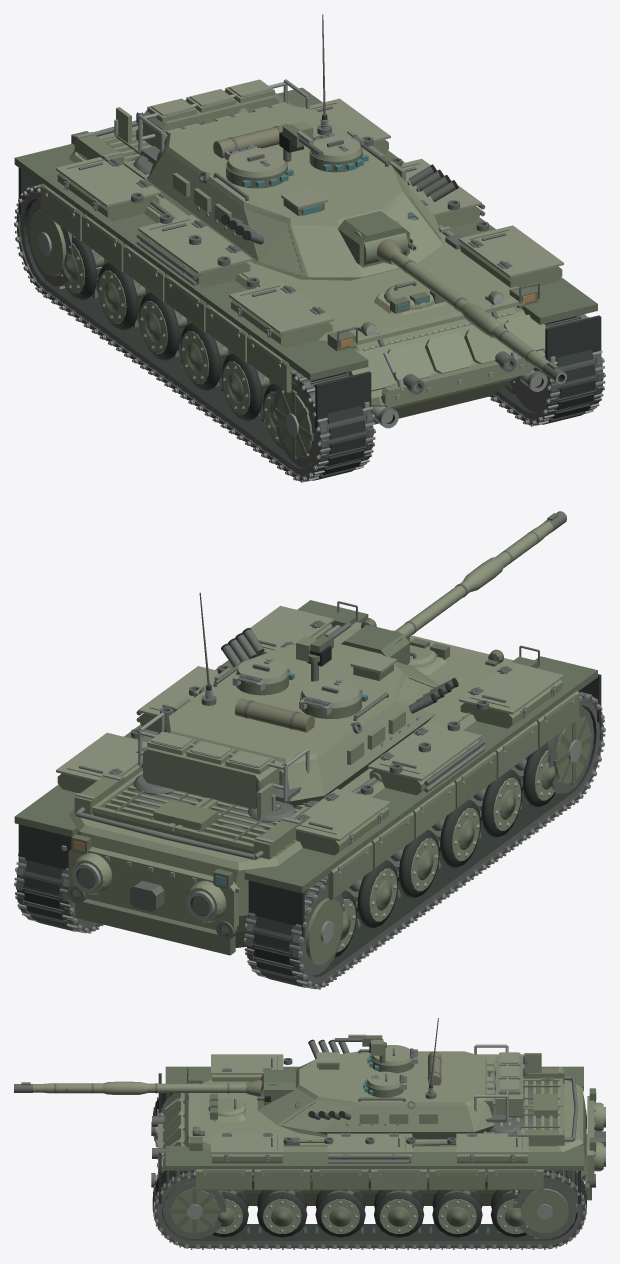
Rendered from spheres-tank-light.glb.
3 views of the same model, one above another, from view 1: azimuth 30°, elevation 25°; view 2: azimuth 150°, elevation 25°; view 3: azimuth 270°, elevation 25° (orthographic). The views are drawn at different scales.
Visible parts, largest first — view 1: Spheres light tank; view 2: Spheres light tank; view 3: Spheres light tank.
Part boxes in pixels (x1,y1,x2,y2): Spheres light tank: (14, 14, 605, 482); Spheres light tank: (14, 511, 605, 989); Spheres light tank: (14, 1018, 605, 1249).
Bounding box in the file's own units: 3.06 × 2.86 × 7.52.
